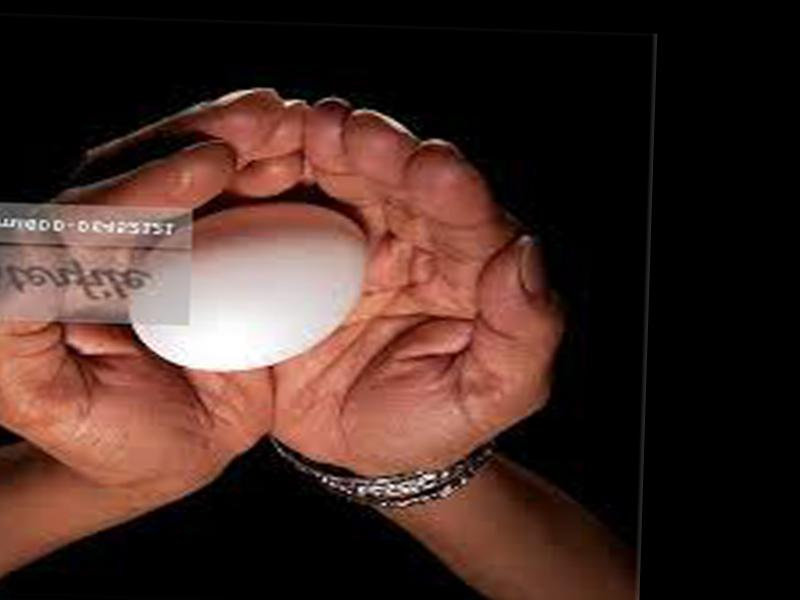Eggs: (127, 195, 371, 376)
